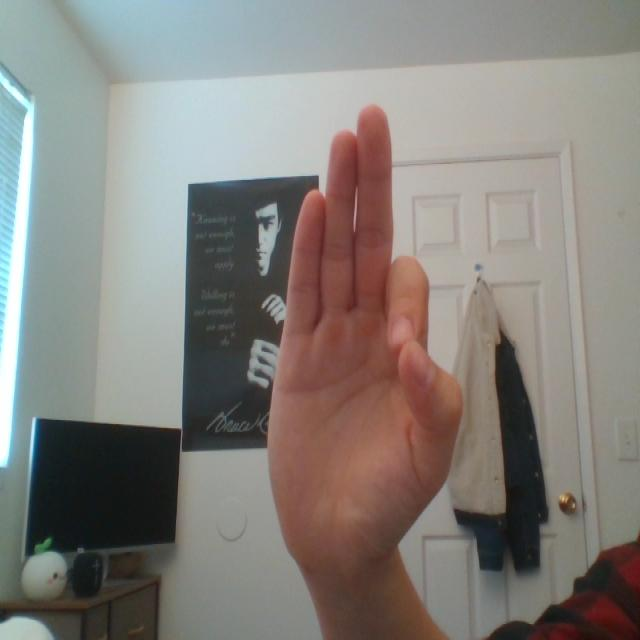F: (237, 71, 505, 590)
